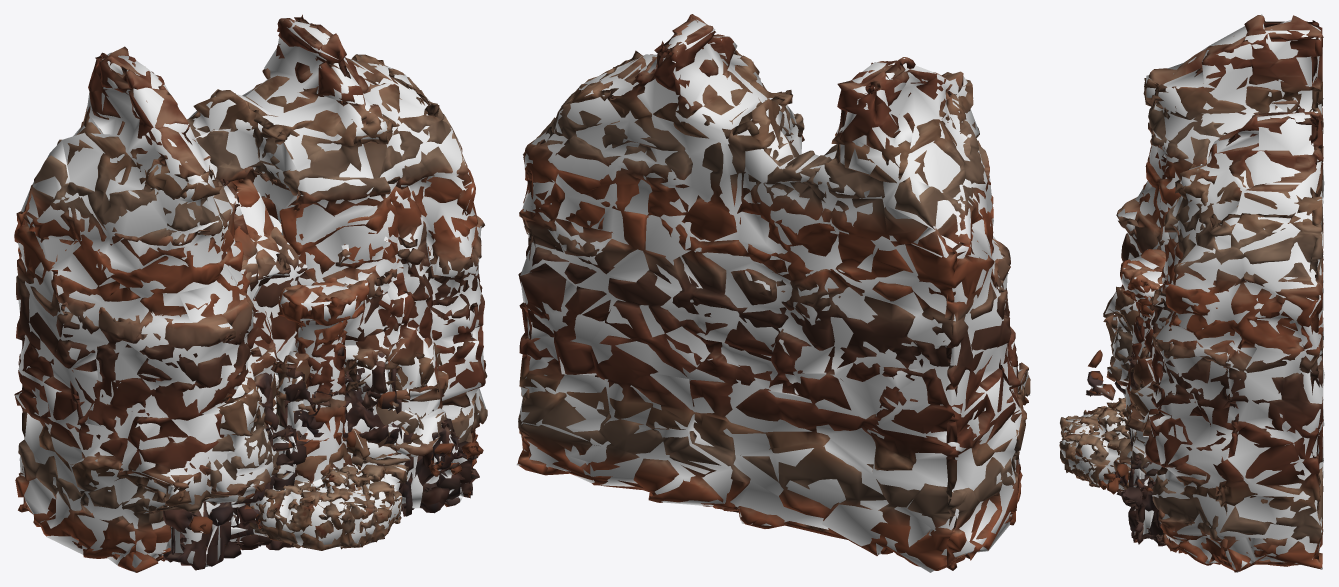
Rendered from rim_cliffs.glb.
3 views of the same model, side by side, from view 1: azimuth 30°, elevation 25°; view 2: azimuth 150°, elevation 25°; view 3: azimuth 270°, elevation 25° (orthographic). The views are drawn at different scales.
Parts seen in each view (by area): view 1: rim_cliff_w5, col_rim_cliff_w5, rim_cliff_w2, rim_cliff_w1, rim_spire_a, rim_talus_a, rim_cliff_w3, col_rim_cliff_w1, col_rim_cliff_w2, col_rim_spire_a, rim_cliff_w4, col_rim_talus_a (+3 smaller); view 2: rim_cliff_w5, col_rim_cliff_w5; view 3: rim_cliff_w5, col_rim_cliff_w5, rim_cliff_w2, rim_cliff_w1, rim_talus_a, rim_spire_a, col_rim_cliff_w1, rim_cliff_w3, col_rim_talus_a, col_rim_spire_a, rim_talus_c, col_rim_cliff_w3 (+2 smaller).
Boxes of the visible parts, x1,y1,x2,y2 form: rim_cliff_w5: (14,14,487,572); col_rim_cliff_w5: (15,20,485,572); rim_cliff_w2: (158,225,483,570); rim_cliff_w1: (161,178,447,561); rim_spire_a: (277,277,369,483); rim_talus_a: (249,464,408,550); rim_cliff_w3: (227,179,448,410); col_rim_cliff_w1: (161,183,445,560); col_rim_cliff_w2: (165,215,467,566); col_rim_spire_a: (280,282,367,481); rim_cliff_w4: (271,290,423,447); col_rim_talus_a: (253,464,406,546); rim_cliff_w5: (517,14,1030,570); col_rim_cliff_w5: (516,19,1029,572); rim_cliff_w5: (1103,15,1323,572); col_rim_cliff_w5: (1112,14,1324,572); rim_cliff_w2: (1086,350,1167,546); rim_cliff_w1: (1103,100,1304,480); rim_talus_a: (1059,397,1130,491); rim_spire_a: (1120,249,1165,419); col_rim_cliff_w1: (1105,107,1283,480); rim_cliff_w3: (1125,242,1182,435); col_rim_talus_a: (1061,402,1130,489); col_rim_spire_a: (1120,256,1162,418); rim_talus_c: (1061,407,1127,463); col_rim_cliff_w3: (1130,244,1180,437).
Size of the model in its own units: 48.88 by 50.1 by 29.14.
Materials: 2 (1 with a texture image).
